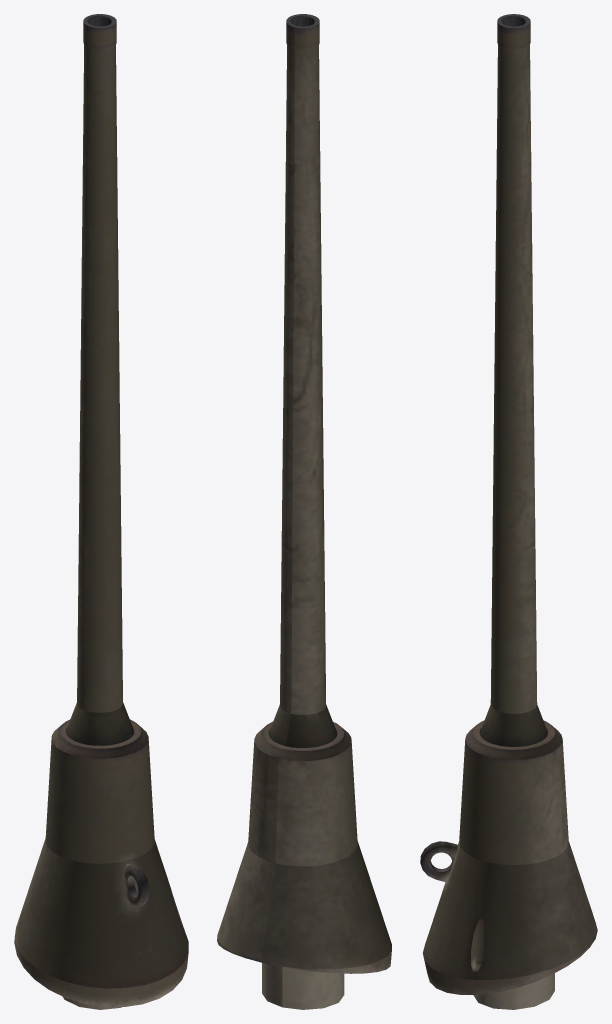
File: Gun_05.glb
The picture shows the model from 3 angles, left to right: view 1: azimuth 30°, elevation 25°; view 2: azimuth 150°, elevation 25°; view 3: azimuth 270°, elevation 25°; orthographic projection.
Parts seen in each view (by area): view 1: set_0_group_0; view 2: set_0_group_0; view 3: set_0_group_0.
Part boxes in pixels (box(x1,y1,x2,y2)): set_0_group_0: box(14, 14, 188, 1009); set_0_group_0: box(217, 14, 391, 1009); set_0_group_0: box(420, 14, 597, 1009).
Bounding box in the file's own units: 0.637 × 3.92 × 0.6474.
1 material, 1 textured.
